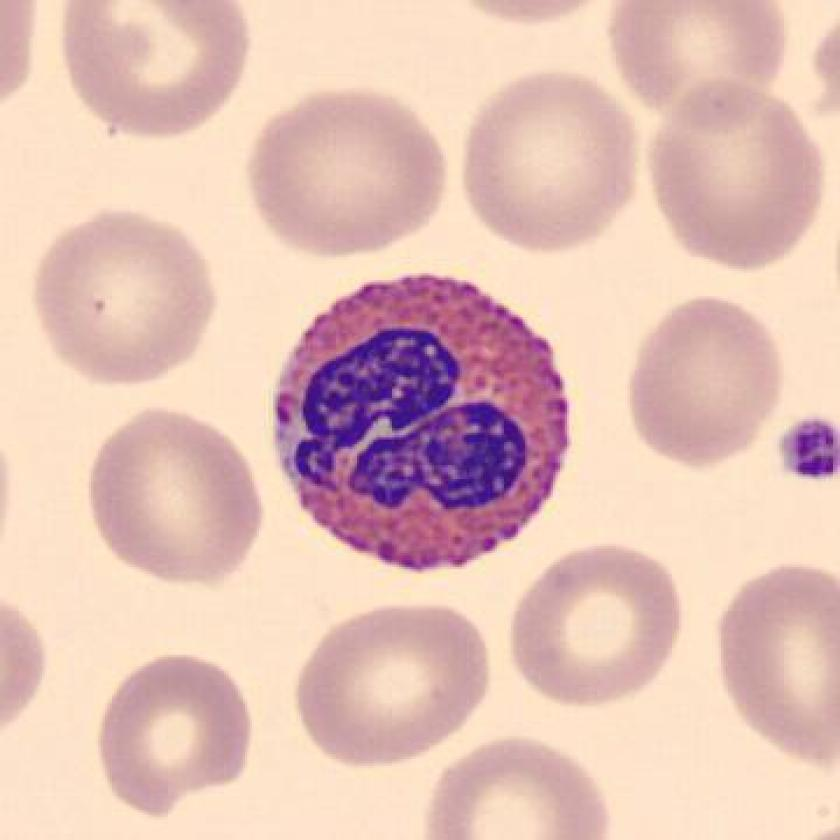eosinophil: (263, 262, 585, 589)
